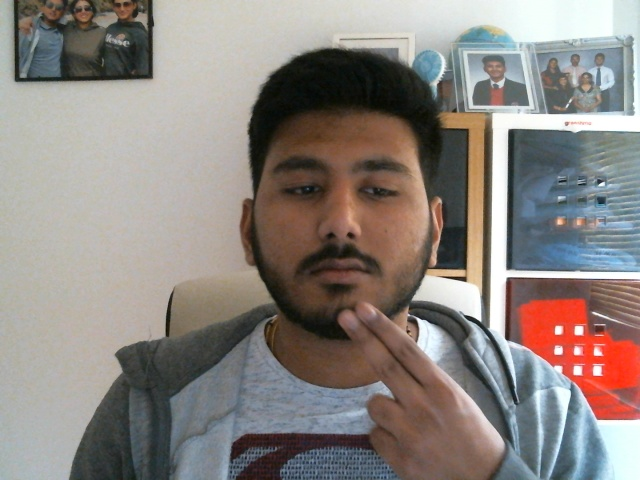afternoon: (336, 302, 456, 454)
